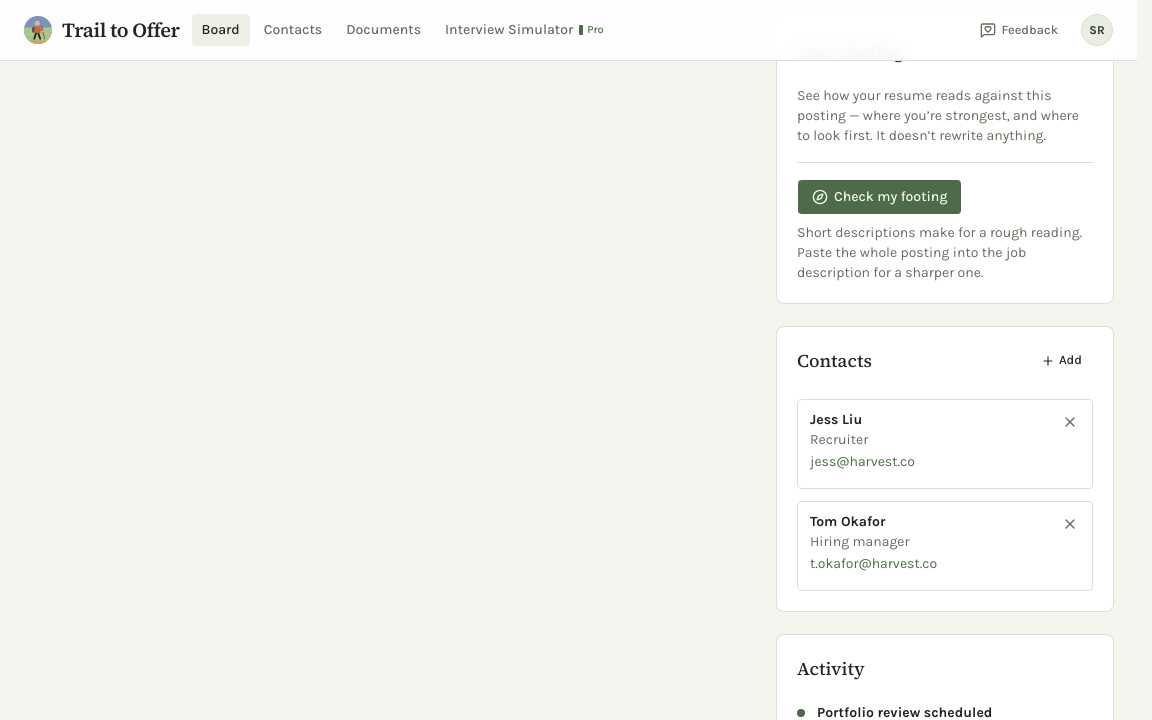
it: the job page's Contacts card (ticket 14) › CON-J6: a refused link shows the reason where the user is looking, and changes nothing
(page scrolled)
Click the button with aria-label "Add contact": (1062, 361) [1030,347,1093,375]
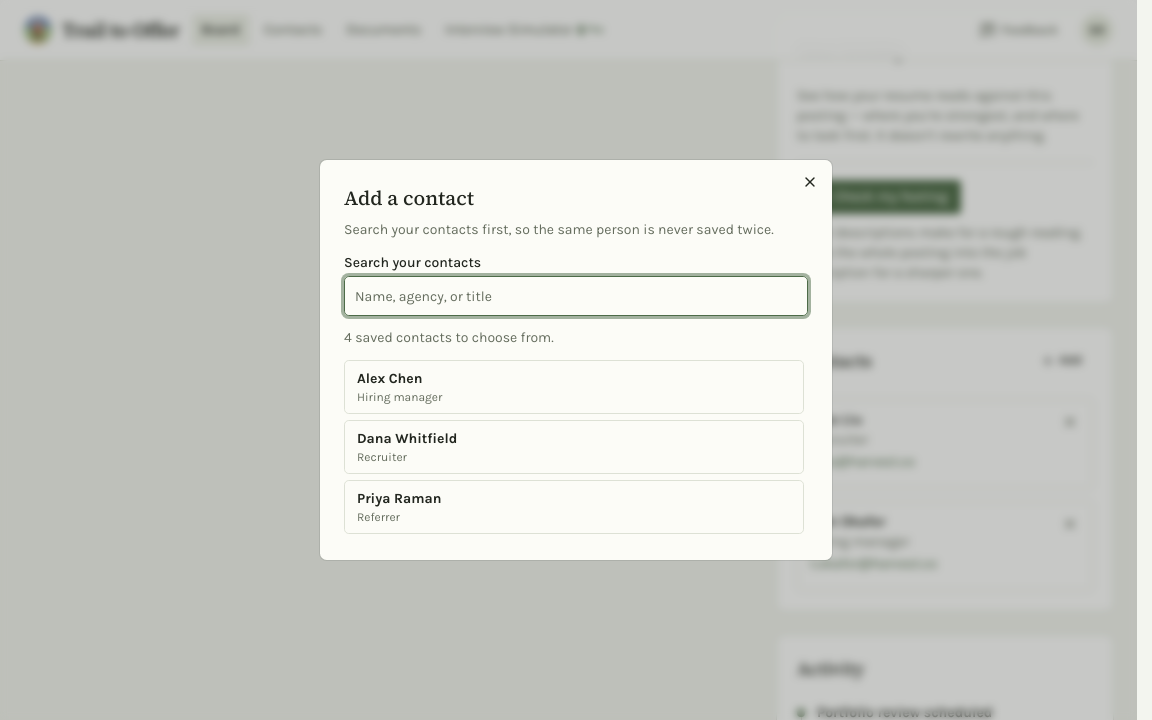
Click the button "Priya Raman Referrer": (399, 498) [344,480,804,534]
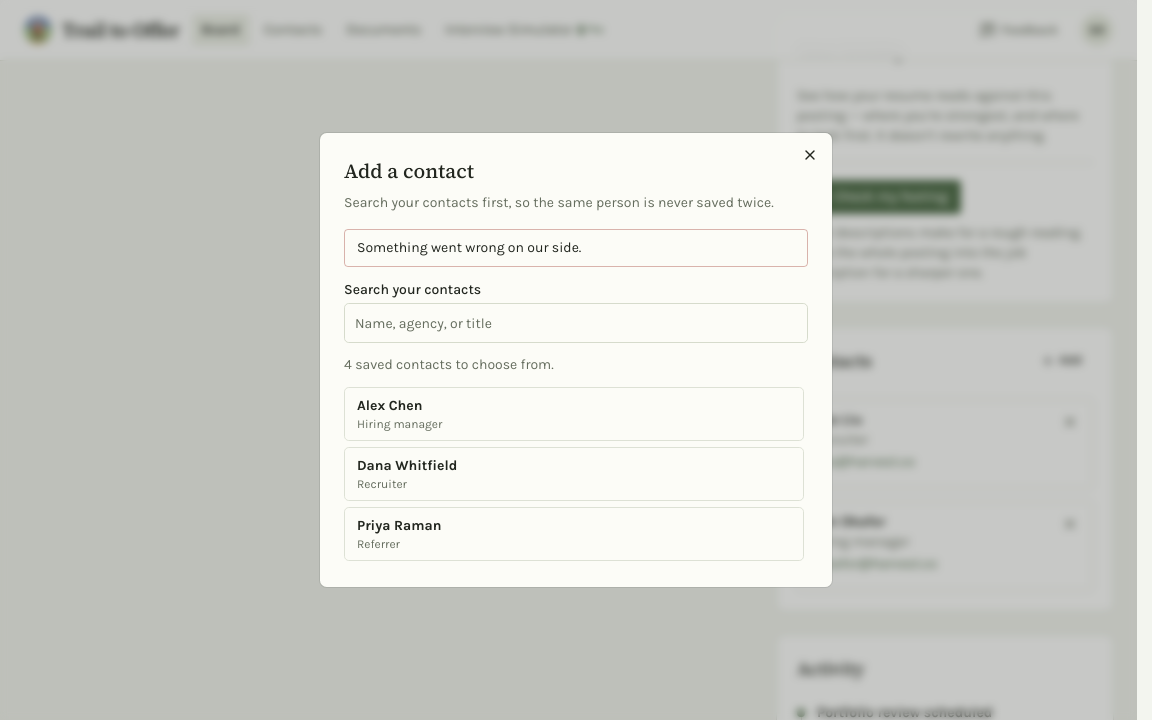
expect the message "Something went wrong on our side." is shown: met, box [344,229,808,267]
Press Escape
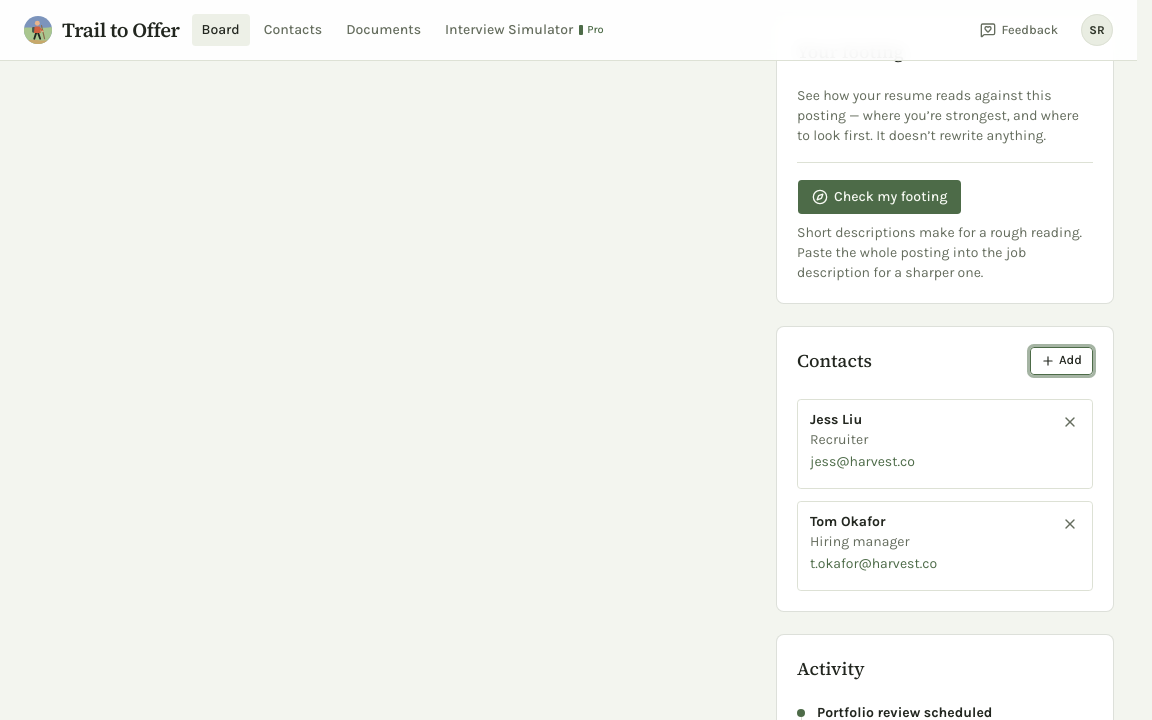
expect the heading "Add a contact" is gone: met
expect the message "Something went wrong on our side." is gone: met
